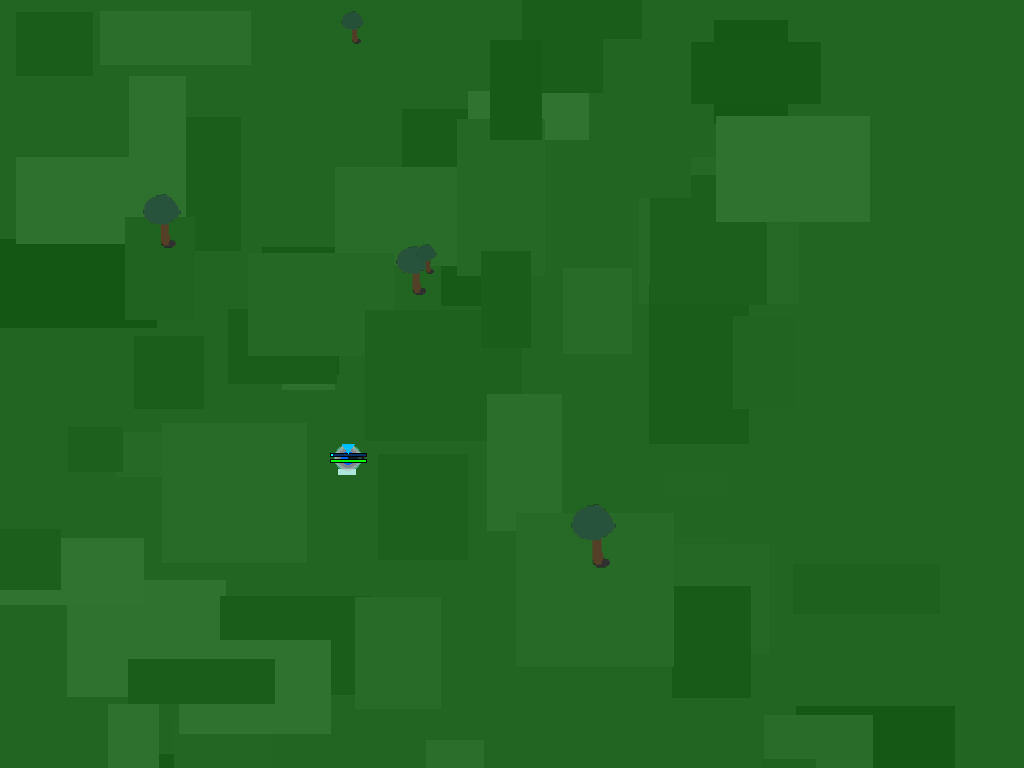Shotgunner: (327, 437, 368, 478)
